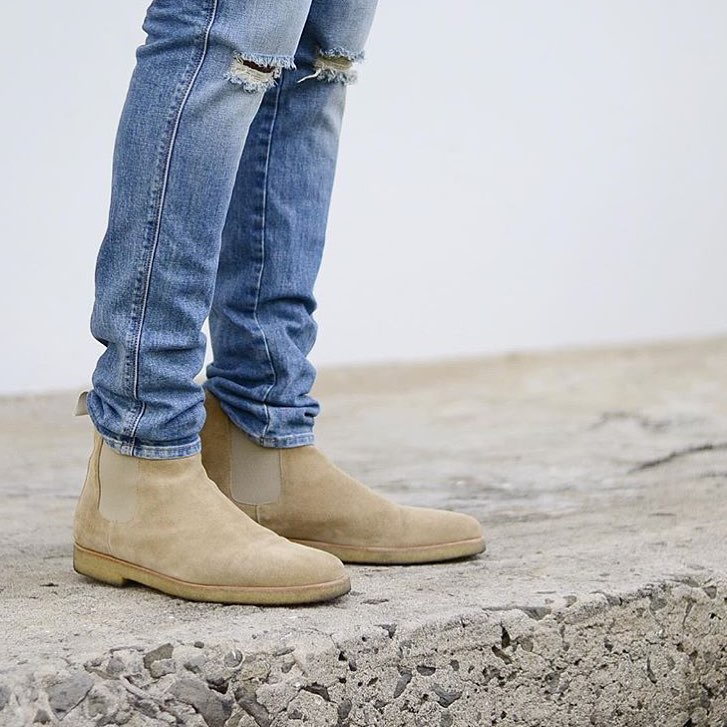sneaker: (49, 409, 368, 624), (183, 375, 506, 578)
